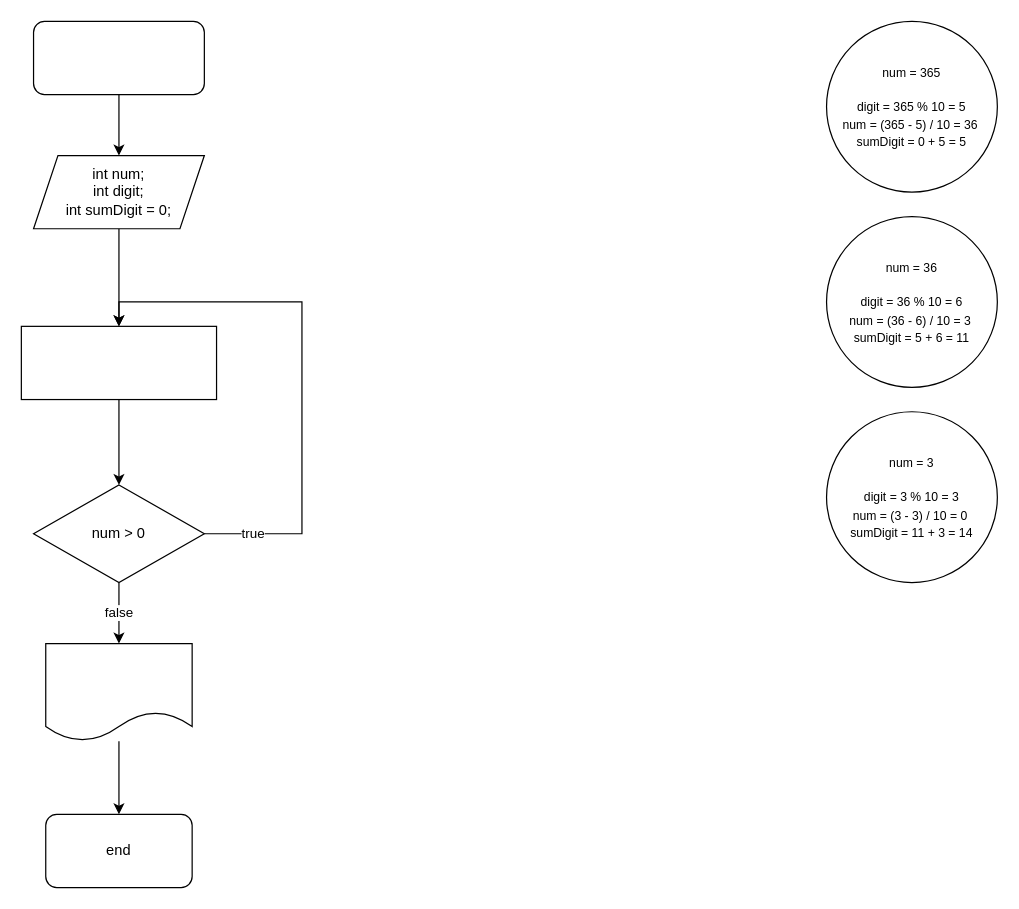
Image size: 1019x909. Some labels were removed from this diagram. The shapes that lost their labels are listed below. From the top down, each one's box as (x1, y1, x2, y2) in pixels, then its label:
(32, 20, 204, 95): start
(20, 325, 217, 400): digit = num % 10; num = (num - digit) / 10 sumDigit += digit
(45, 642, 192, 741): sumDigit
